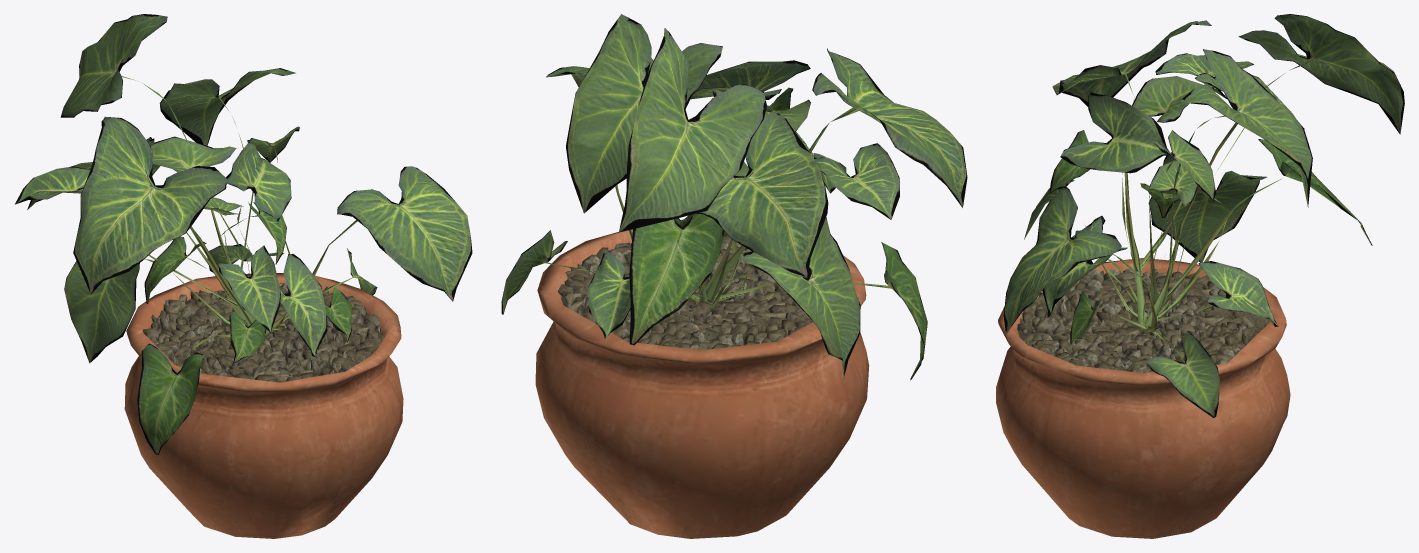
File: plant.glb
3 views of the same model, side by side, from view 1: azimuth 30°, elevation 25°; view 2: azimuth 150°, elevation 25°; view 3: azimuth 270°, elevation 25° (orthographic). The views are drawn at different scales.
Parts seen in each view (by area): view 1: potted_plant_02_leaves, potted_plant_02_pot; view 2: potted_plant_02_leaves, potted_plant_02_pot; view 3: potted_plant_02_pot, potted_plant_02_leaves.
Boxes of the visible parts, x1=… form: potted_plant_02_leaves: x1=15, y1=14, x2=472, y2=454; potted_plant_02_pot: x1=124, y1=273, x2=403, y2=538; potted_plant_02_leaves: x1=501, y1=14, x2=967, y2=380; potted_plant_02_pot: x1=535, y1=229, x2=869, y2=538; potted_plant_02_pot: x1=996, y1=258, x2=1290, y2=538; potted_plant_02_leaves: x1=1003, y1=14, x2=1404, y2=417.
Size of the model in its own units: 0.7009 by 0.8395 by 0.6554.
Materials: 2 (2 with a texture image).
